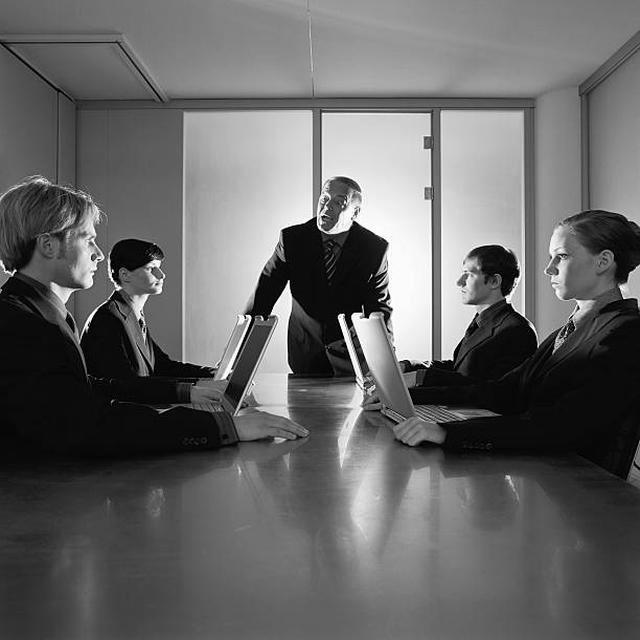Angry: (316, 180, 354, 236)
